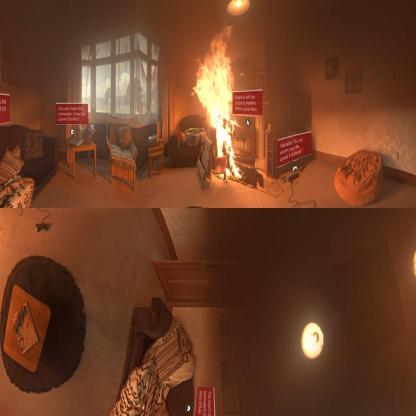fire: (192, 23, 244, 180)
